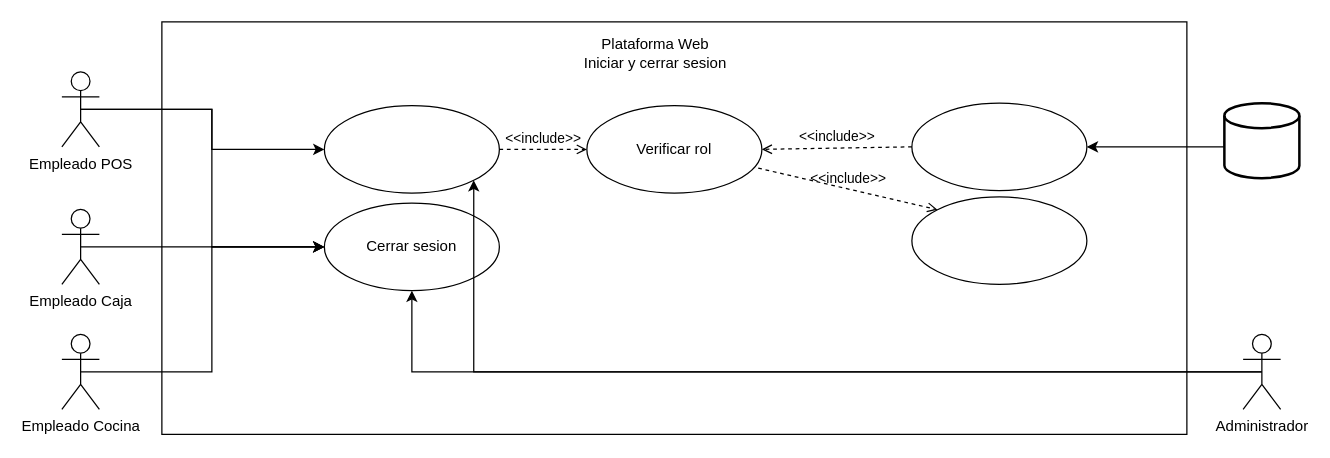
This 1330x458 diagram has some shape labels left out. The centre of each missing label's shape, as x and y in pixels:
"Enviar registro de DB" belongs at [999,146].
"Iniciar sesion" belongs at [411,148].
"Visualizar pantalla asignada a cada rol" belongs at [999,240].
